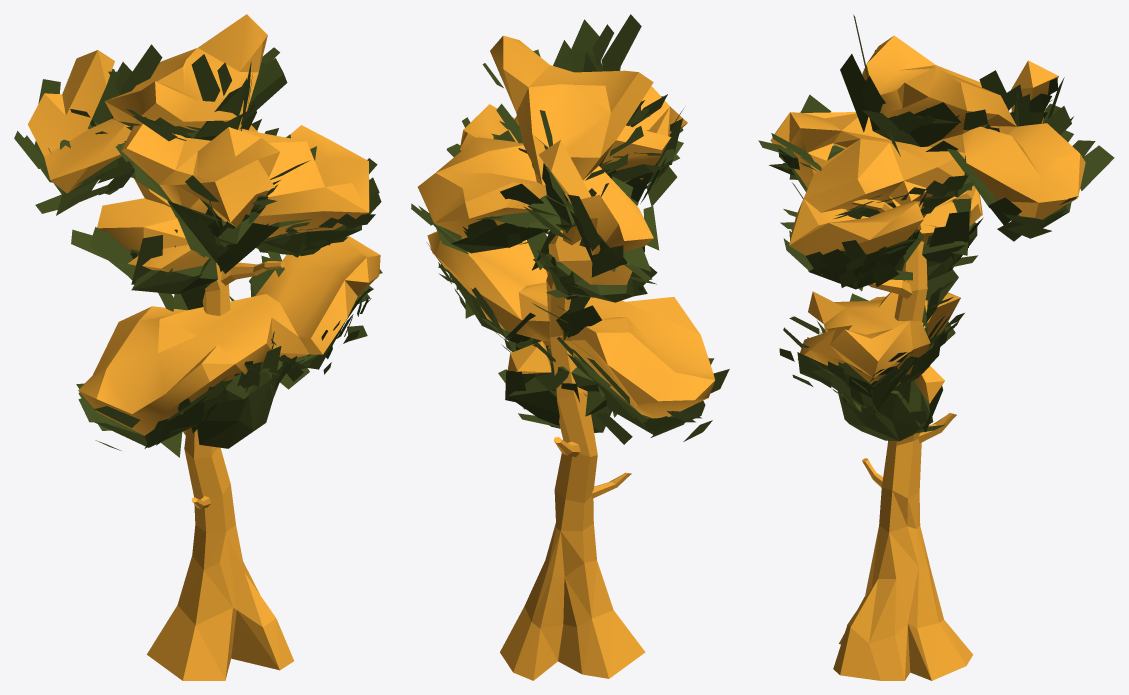
File: SM_Tree_Juniper_Young_A_Snow.fbx
3 renders of one model, left to right at view 1: azimuth 30°, elevation 25°; view 2: azimuth 150°, elevation 25°; view 3: azimuth 270°, elevation 25°, orthographic.
Visible parts, largest first — view 1: tree-juniper-young-a-snow; view 2: tree-juniper-young-a-snow; view 3: tree-juniper-young-a-snow.
Part boxes in pixels (left/top/right/bottom): tree-juniper-young-a-snow: left=14, top=14, right=382, bottom=680; tree-juniper-young-a-snow: left=411, top=14, right=729, bottom=680; tree-juniper-young-a-snow: left=758, top=14, right=1114, bottom=680.
Bounding box in the file's own units: 1.53 × 3.18 × 1.65.
